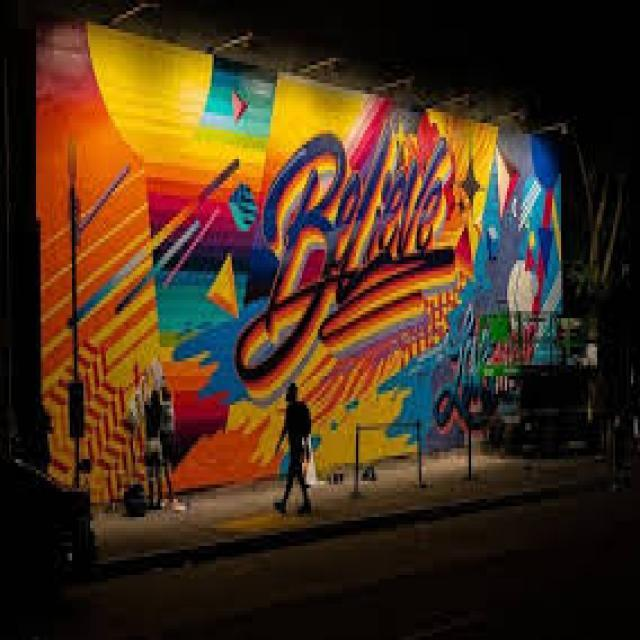-: (39, 12, 564, 492), (235, 133, 456, 406)
